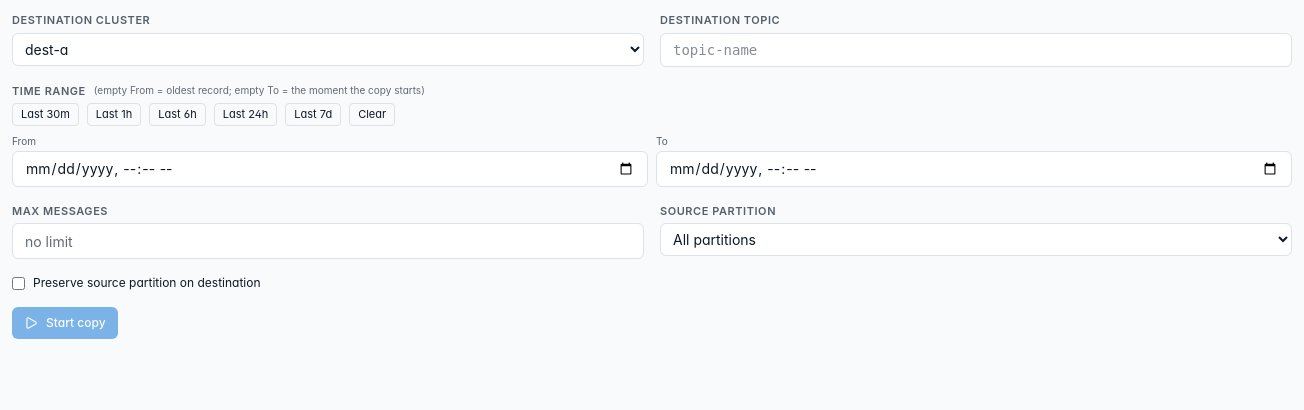
Test: BulkCopyPanel skipped counter › labels skipped records without claiming a cause and explains why in a tooltip
Type "dest-topic" into the field with placeholder "topic-name".
click(976, 50); type("dest-topic")  # box [660, 32, 1292, 66]
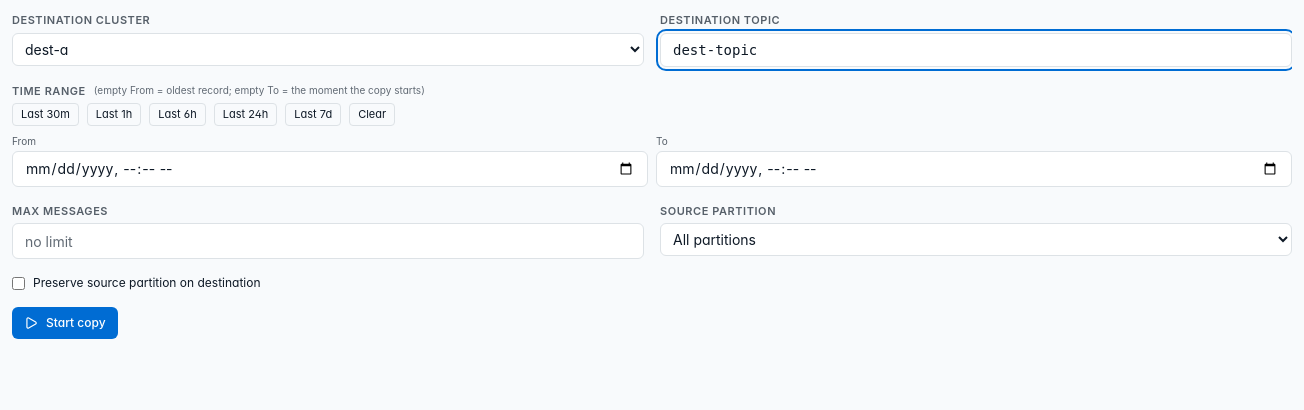
Click the button "Start copy".
click(65, 323)  # box [12, 307, 118, 339]
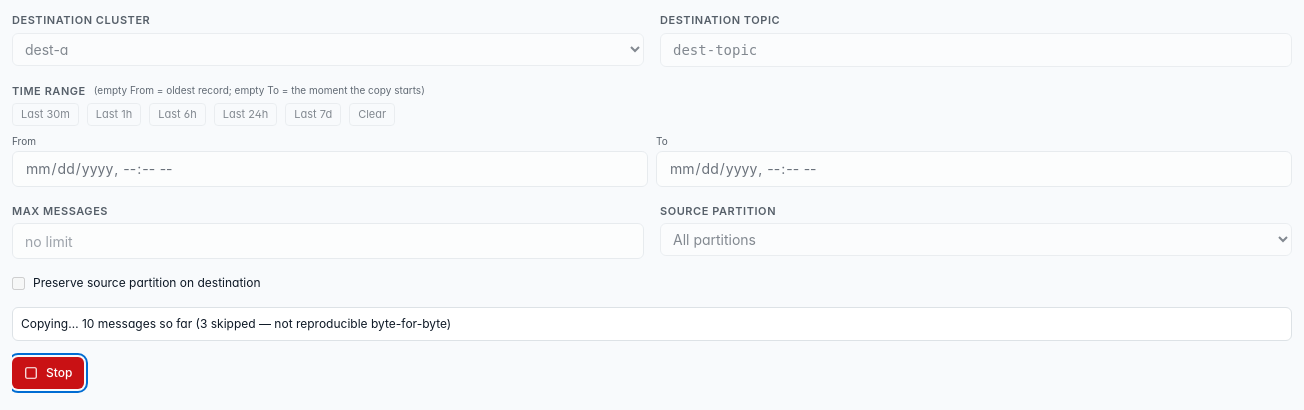
expect the text "(3 skipped — not reproducible byte-for-byte)" is shown: met, box [192, 316, 451, 331]
